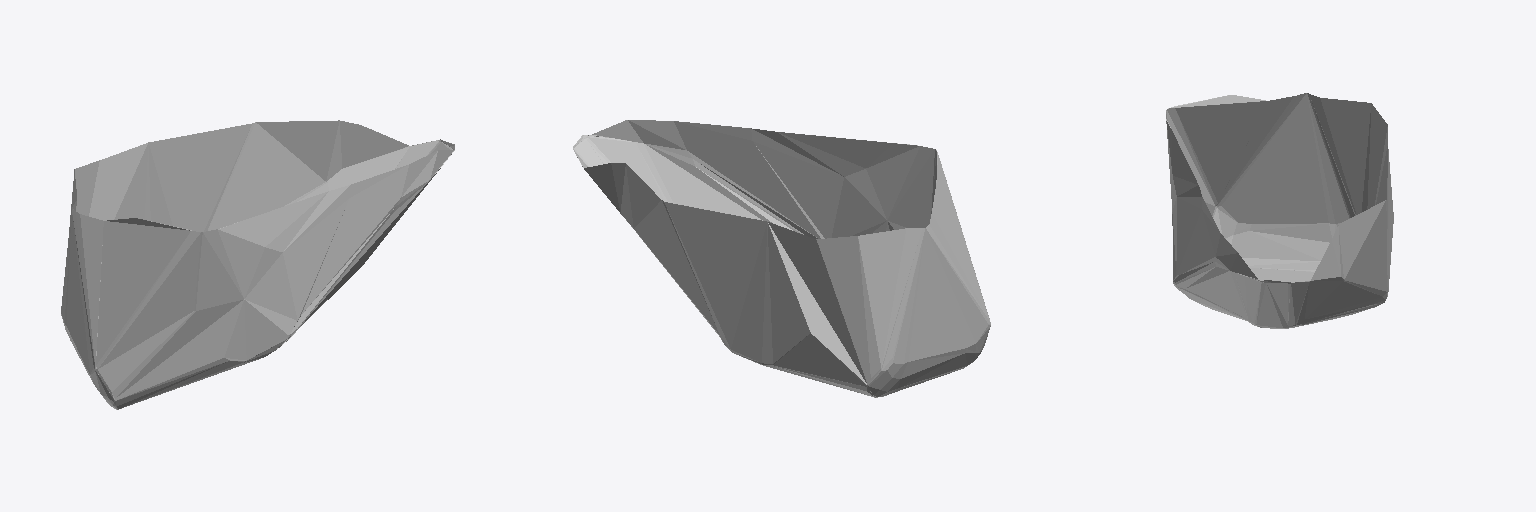
Rendered from SkullLP.obj.
3 views of the same model, side by side, from view 1: azimuth 30°, elevation 25°; view 2: azimuth 150°, elevation 25°; view 3: azimuth 270°, elevation 25° (orthographic).
Visible parts, largest first — view 1: Sphere; view 2: Sphere; view 3: Sphere.
Part boxes in pixels (left/top/right/bottom): Sphere: left=61, top=120, right=454, bottom=409; Sphere: left=573, top=120, right=990, bottom=397; Sphere: left=1166, top=93, right=1393, bottom=328.
Bounding box in the file's own units: 2.07 × 0.9537 × 1.07.